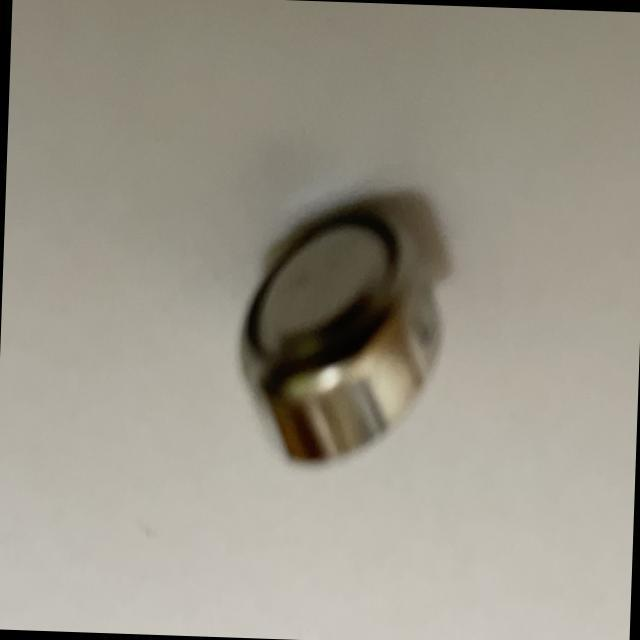COIN: (232, 196, 447, 472)
